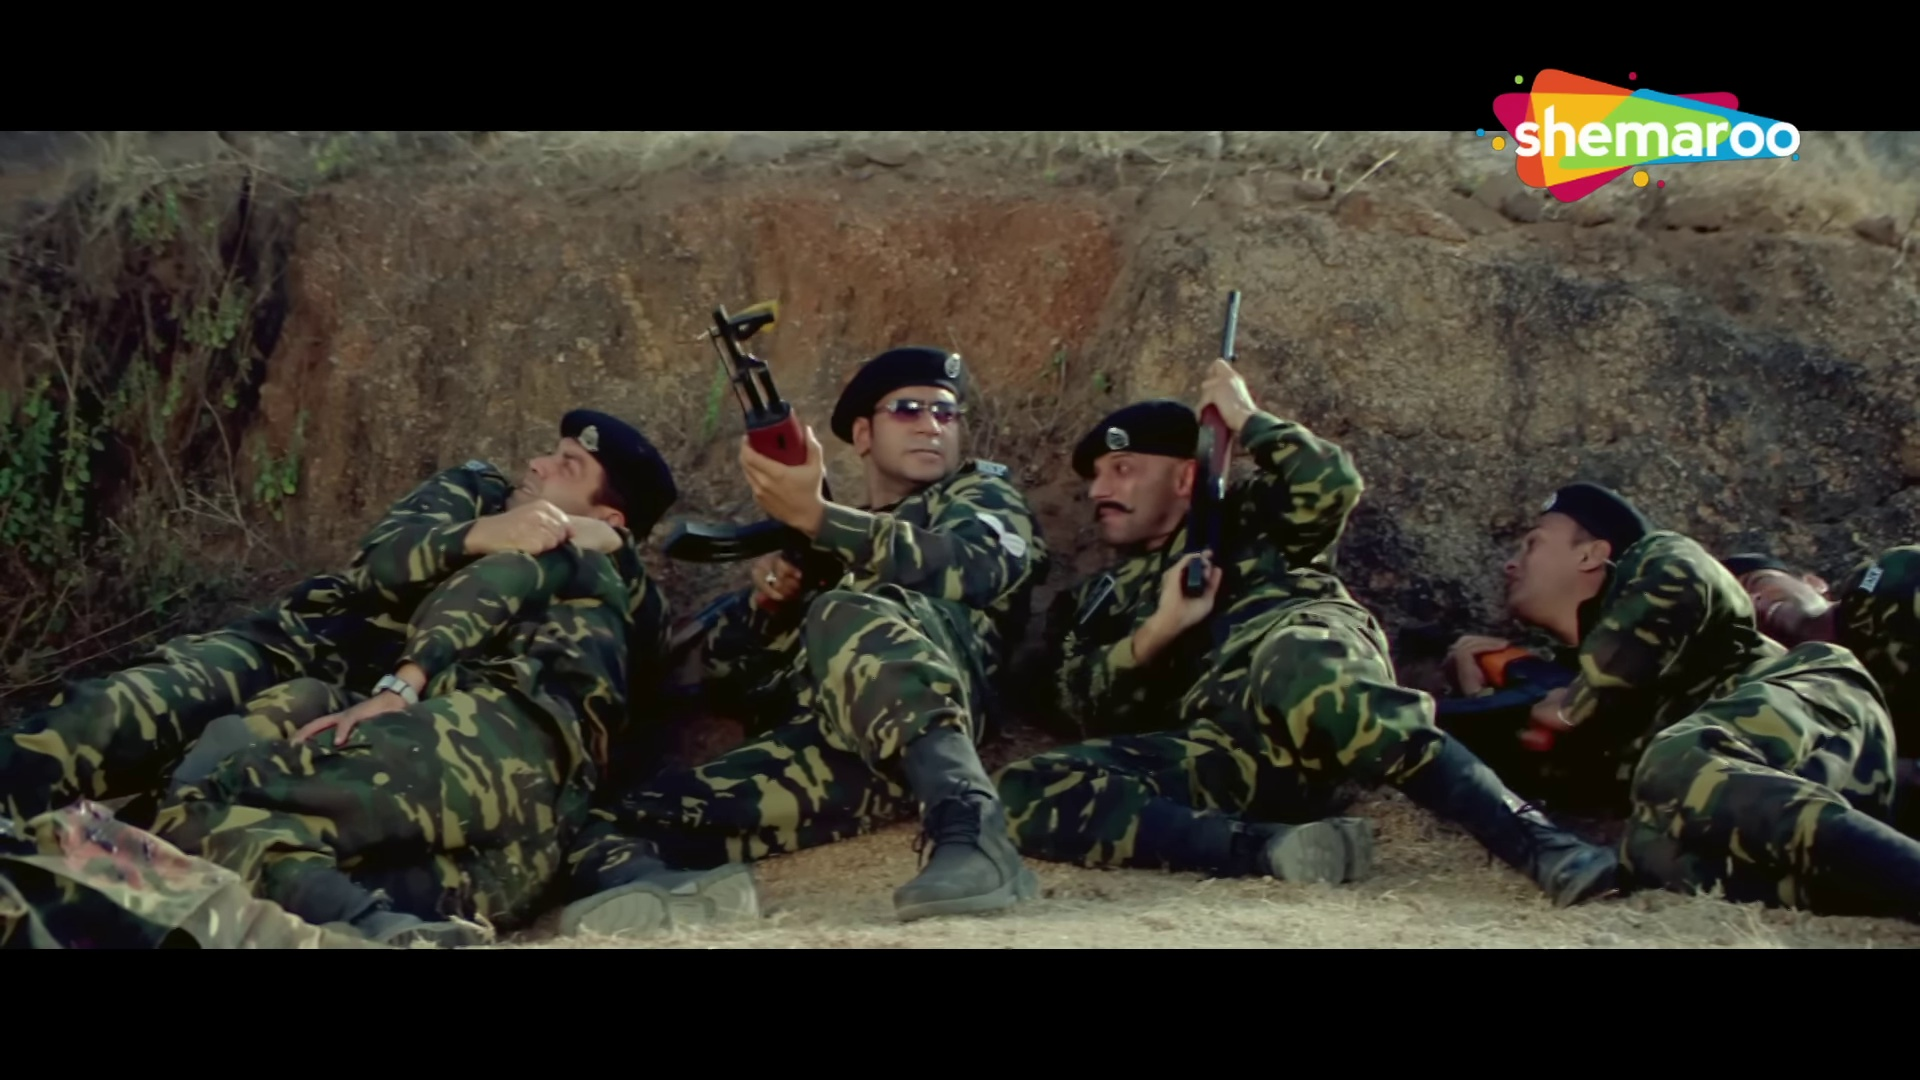gun: (663, 285, 851, 663), (1164, 284, 1255, 597), (1436, 625, 1592, 744)
p_w_gun: (992, 277, 1622, 910), (555, 294, 1048, 942), (1427, 479, 1920, 926)
p_wo_gun_not_carrying_normal_pose: (152, 405, 686, 951), (0, 462, 673, 828), (1724, 539, 1920, 729)
